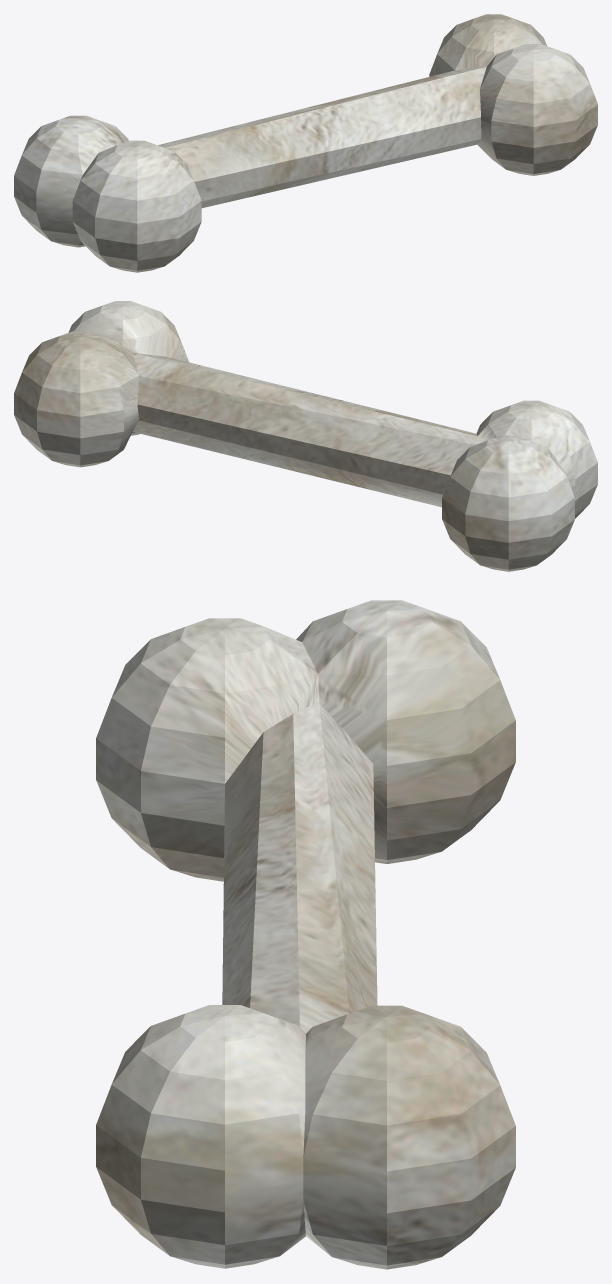
Rendered from Skeleton.fbx.
3 views of the same model, one above another, from view 1: azimuth 30°, elevation 25°; view 2: azimuth 150°, elevation 25°; view 3: azimuth 270°, elevation 25° (orthographic). The views are drawn at different scales.
Parts seen in each view (by area): view 1: Skeleton; view 2: Skeleton; view 3: Skeleton.
Part boxes in pixels (x1,y1,x2,y2): Skeleton: [14, 14, 597, 272]; Skeleton: [14, 301, 597, 571]; Skeleton: [96, 600, 515, 1269].
Size of the model in its own units: 137 by 30 by 47.36.
